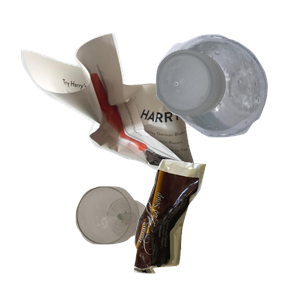glass: (73, 184, 214, 300)
paper: (18, 30, 213, 210)
plastic: (153, 31, 300, 161)
trash: (131, 157, 300, 300)
